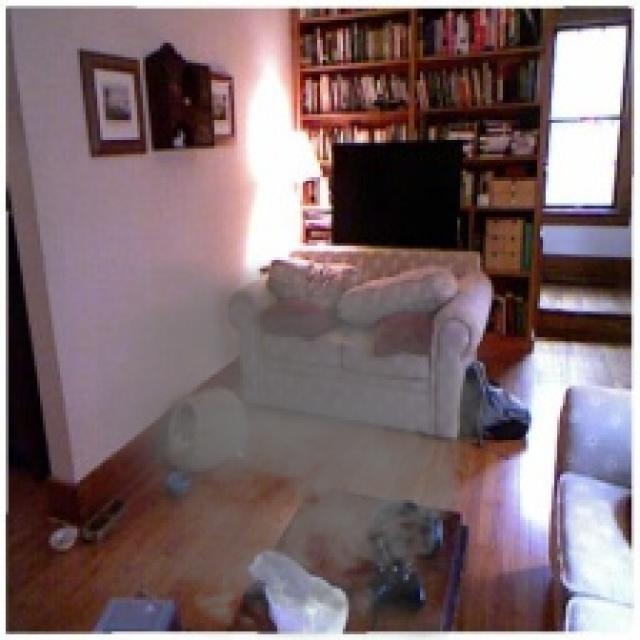Smoke: (97, 260, 520, 637)
